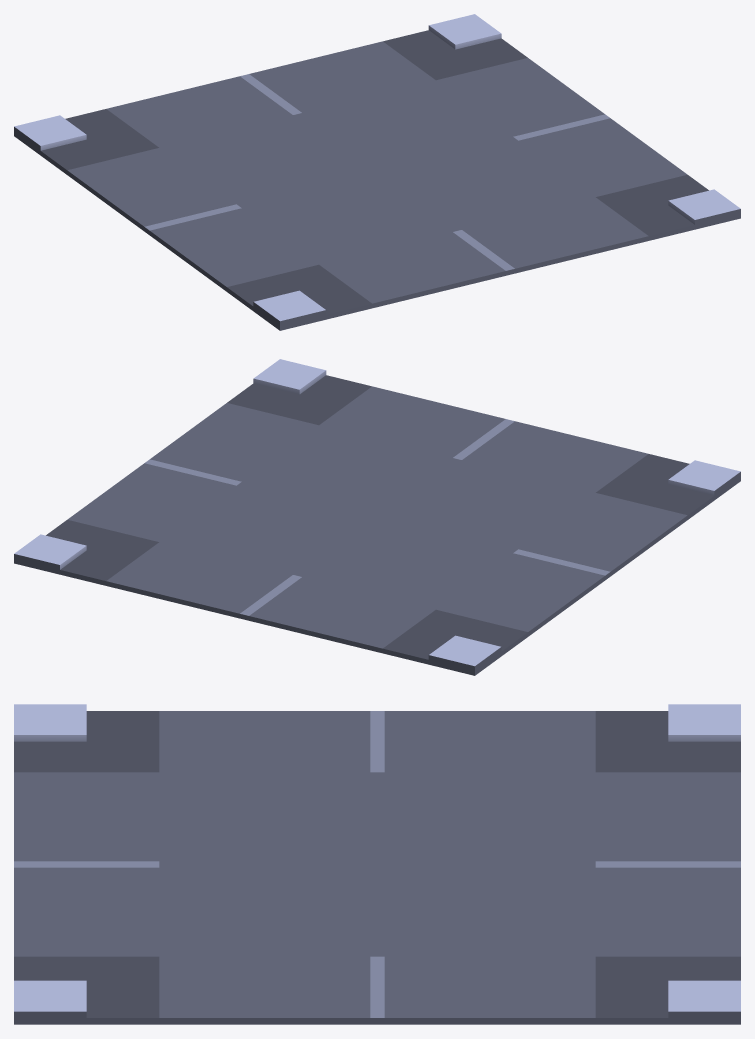
Rendered from road-crossroad.fbx.
The picture shows the model from 3 angles, top to bottom: view 1: azimuth 30°, elevation 25°; view 2: azimuth 150°, elevation 25°; view 3: azimuth 270°, elevation 25°; orthographic projection. The views are drawn at different scales.
Visible parts, largest first — view 1: road-crossroad; view 2: road-crossroad; view 3: road-crossroad.
Part boxes in pixels (bbox=[...]): road-crossroad: bbox=[14, 14, 740, 330]; road-crossroad: bbox=[14, 359, 740, 675]; road-crossroad: bbox=[14, 704, 740, 1024].
Bounding box in the file's own units: 100 × 2 × 100.
